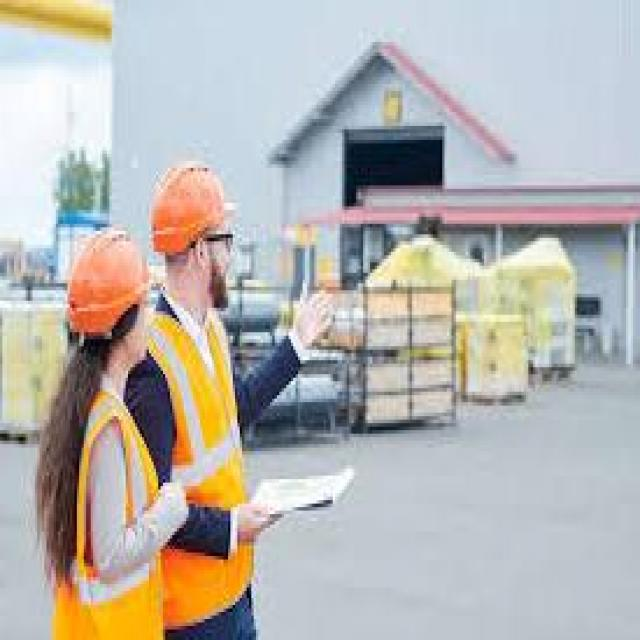Reflective-Jacket: (140, 294, 258, 626), (44, 385, 168, 633)
Safety-Helmet: (49, 220, 153, 350), (142, 150, 242, 266)
